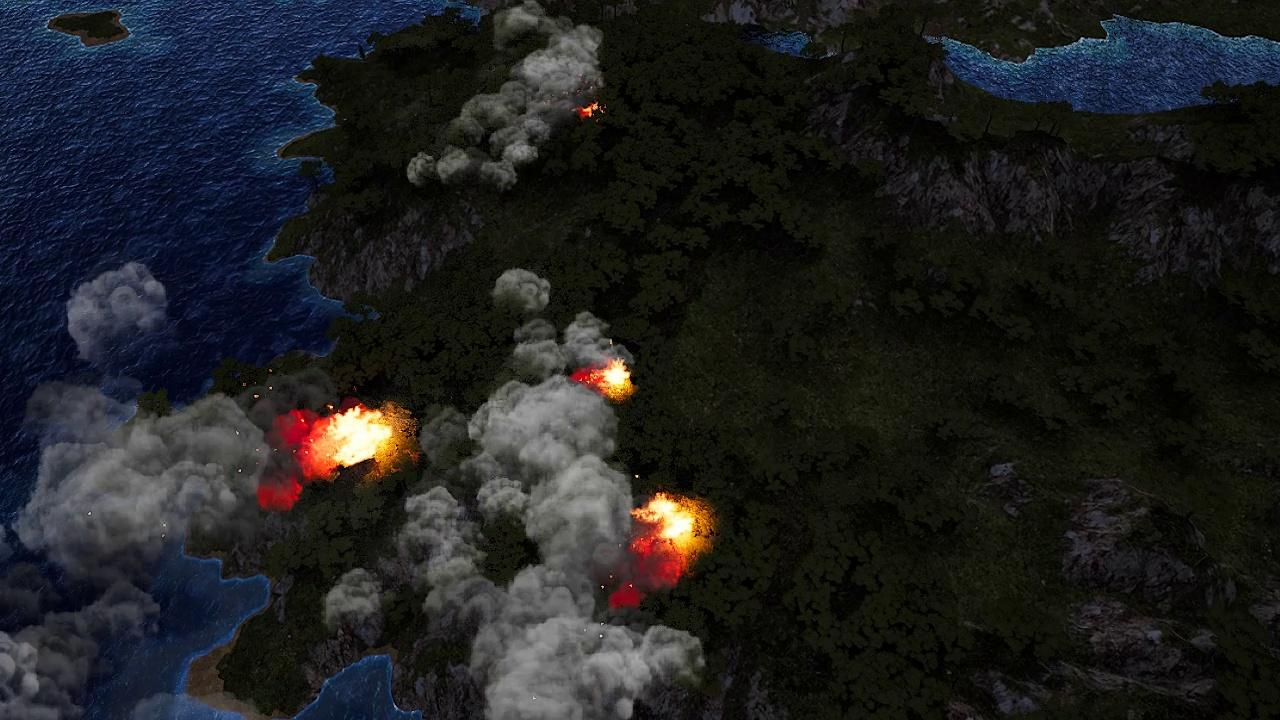fire: (308, 402, 397, 474), (637, 496, 705, 558), (579, 362, 630, 397), (578, 102, 599, 120)
smoke: (320, 269, 709, 720), (0, 357, 311, 715), (405, 0, 609, 192), (68, 257, 174, 367)
